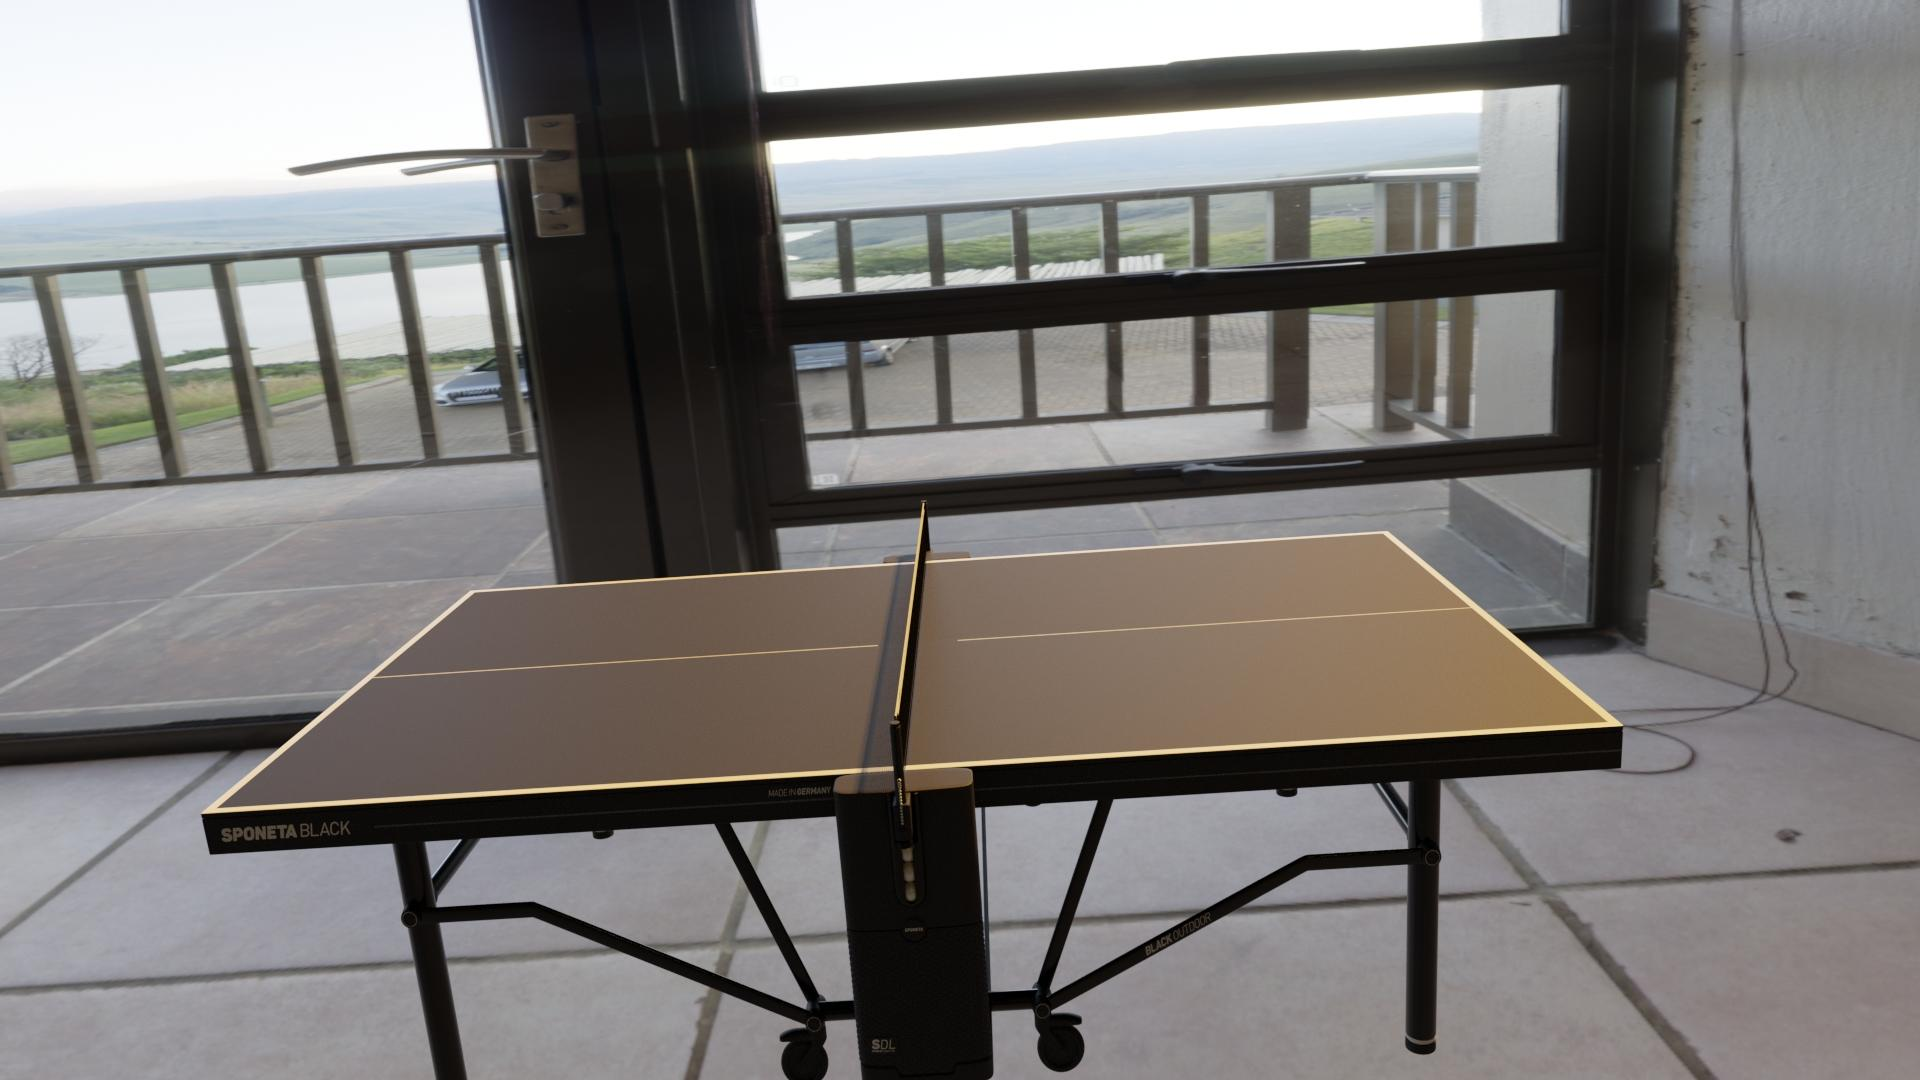table: (216, 533, 1609, 808)
